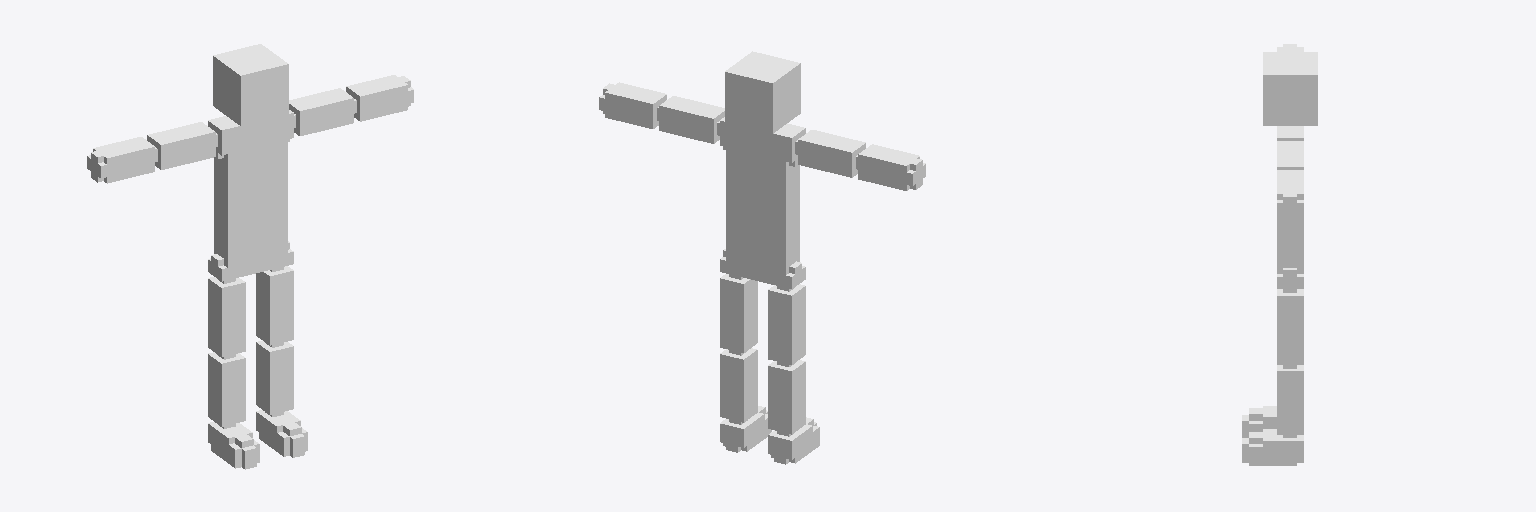
File: Guy1.obj
3 renders of one model, left to right at view 1: azimuth 30°, elevation 25°; view 2: azimuth 150°, elevation 25°; view 3: azimuth 270°, elevation 25°, orthographic.
Parts seen in each view (by area): view 1: Guy1; view 2: Guy1; view 3: Guy1.
Boxes of the visible parts, x1=… form: Guy1: x1=87, y1=44, x2=413, y2=469; Guy1: x1=599, y1=51, x2=925, y2=464; Guy1: x1=1242, y1=44, x2=1317, y2=465.
Size of the model in its own units: 52 by 61 by 11.